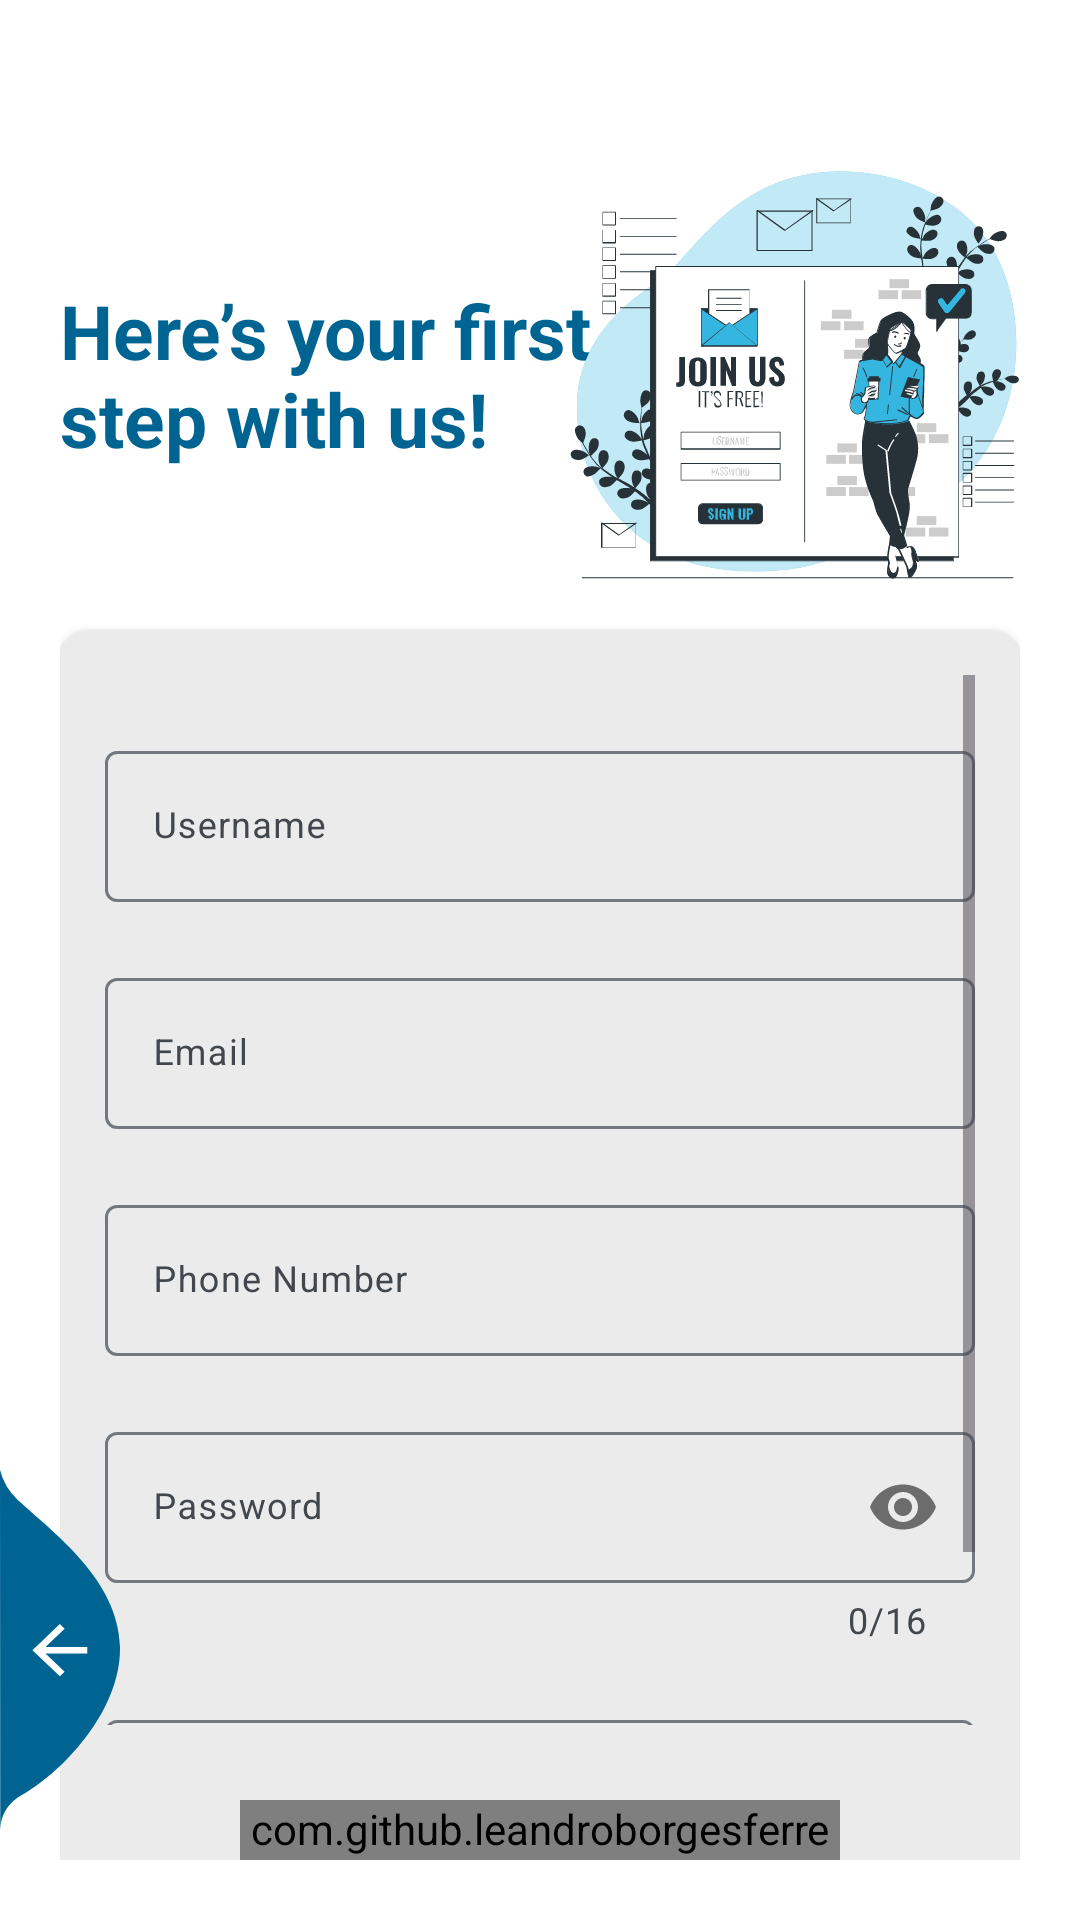

Icon bounding boxes for this 1080px x 1920px phone screenshot, format (x1, y1, x2, y2):
back: (0, 1471, 120, 1828)
